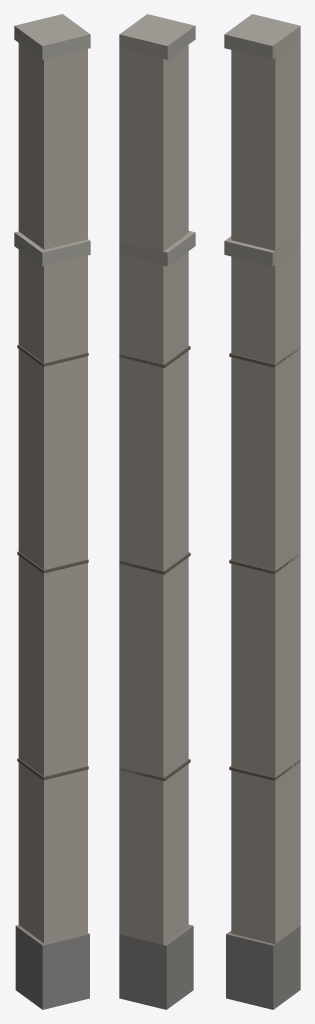
The model's file is SC_Shop_Corner_Post.gltf.
3 views of the same model, side by side, from view 1: azimuth 30°, elevation 25°; view 2: azimuth 150°, elevation 25°; view 3: azimuth 330°, elevation 25° (orthographic).
Parts seen in each view (by area): view 1: SC_Shop_Corner_Post; view 2: SC_Shop_Corner_Post; view 3: SC_Shop_Corner_Post.
Part boxes in pixels (x1=…): SC_Shop_Corner_Post: x1=14, y1=14, x2=90, y2=1009; SC_Shop_Corner_Post: x1=119, y1=14, x2=195, y2=1009; SC_Shop_Corner_Post: x1=224, y1=14, x2=300, y2=1009.
Bounding box in the file's own units: 0.22 × 4.2 × 0.22.
Materials: 1 (1 with a texture image).
